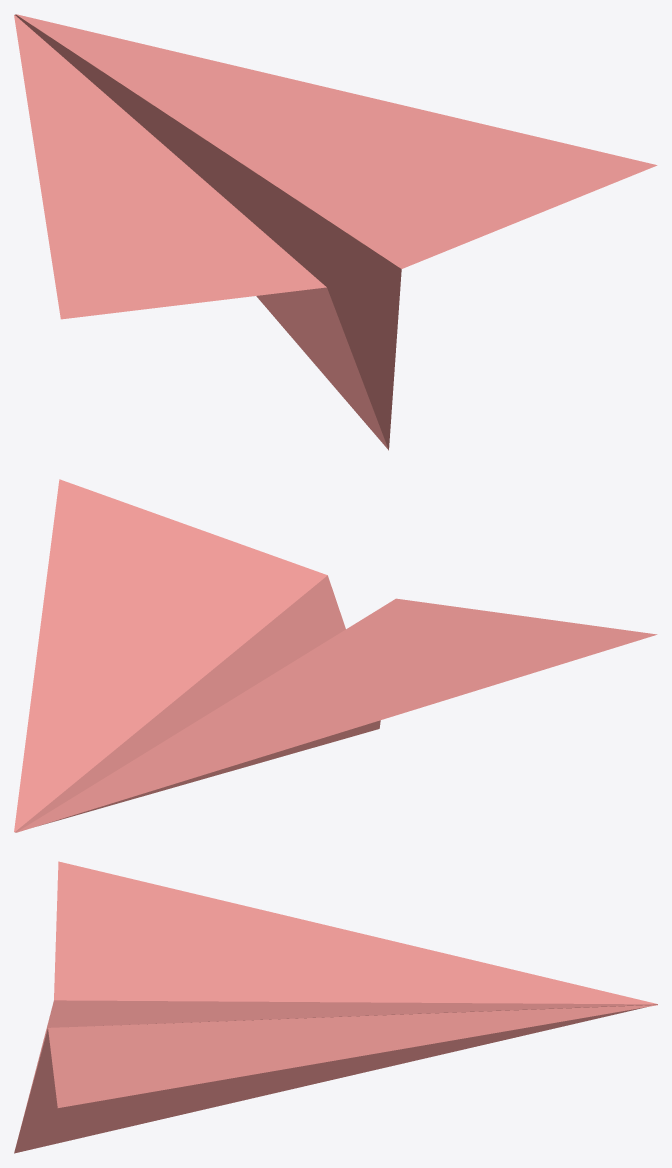
File: Camera.glb
3 views of the same model, one above another, from view 1: azimuth 30°, elevation 25°; view 2: azimuth 150°, elevation 25°; view 3: azimuth 270°, elevation 25° (orthographic). The views are drawn at different scales.
Visible parts, largest first — view 1: Plane; view 2: Plane; view 3: Plane.
Part boxes in pixels (x1=…): Plane: x1=14, y1=14, x2=657, y2=450; Plane: x1=14, y1=479, x2=657, y2=832; Plane: x1=14, y1=861, x2=657, y2=1153.
Bounding box in the file's own units: 8.86 × 2.77 × 9.47.
